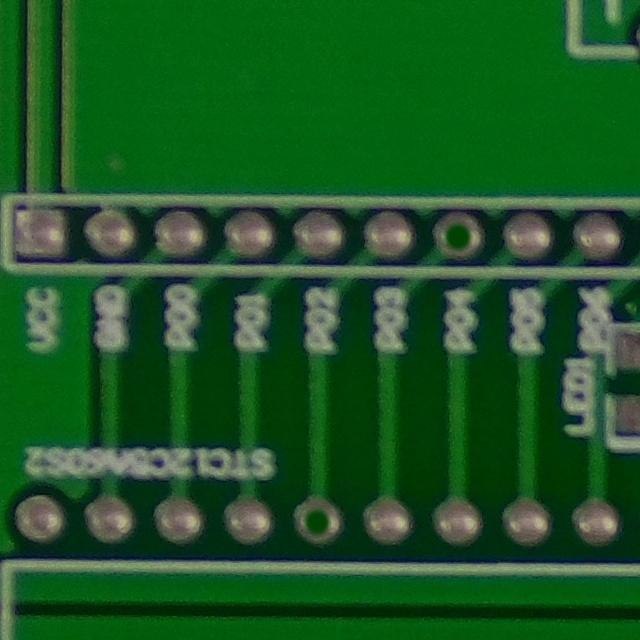missing_hole: (283, 494, 349, 558), (426, 206, 490, 266)
